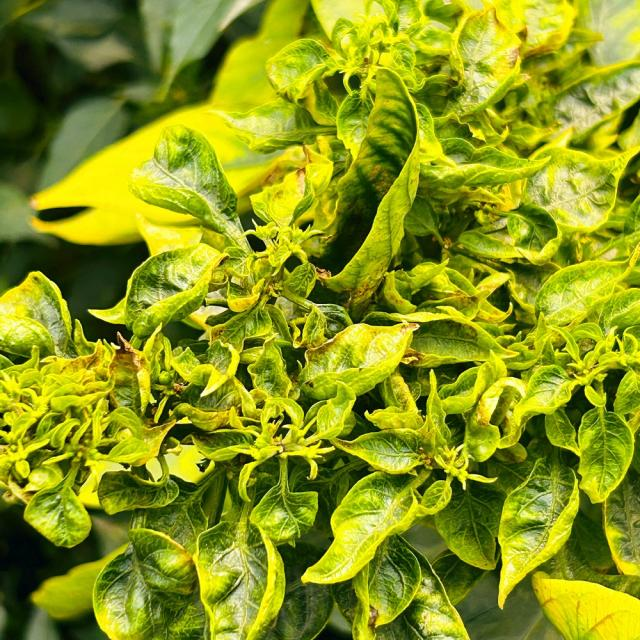Chilli_Leaf_Curl: (1, 1, 638, 638), (311, 66, 422, 312)
